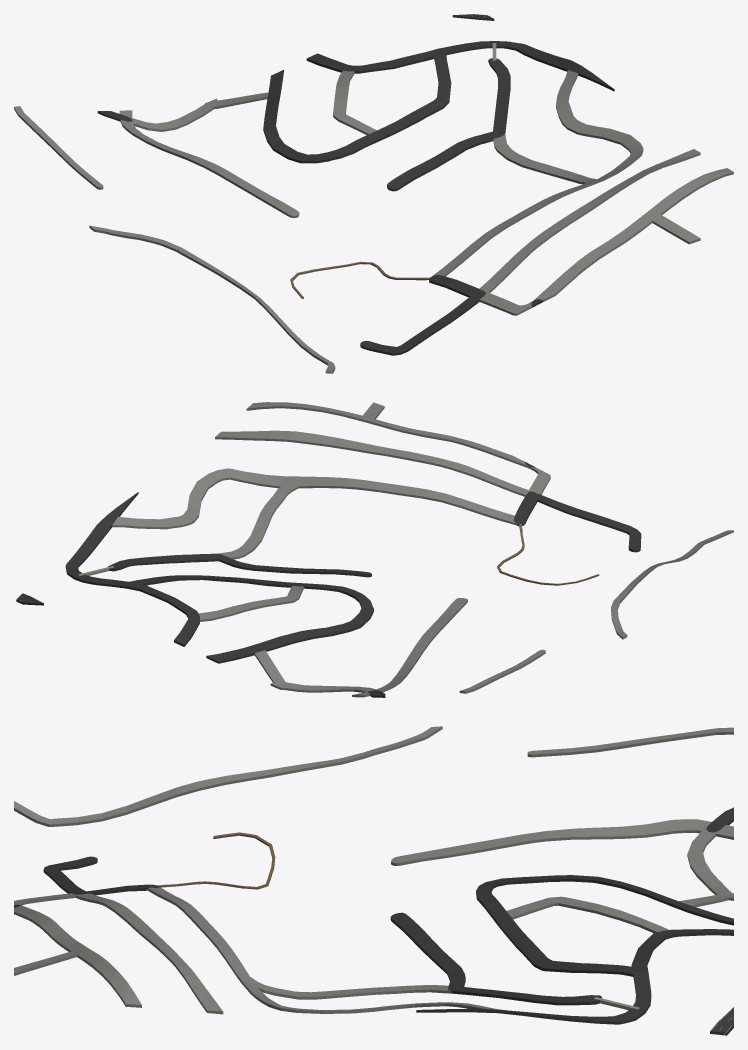
3 renders of one model, top to bottom at view 1: azimuth 30°, elevation 25°; view 2: azimuth 150°, elevation 25°; view 3: azimuth 270°, elevation 25°, orthographic. The views are drawn at different scales.
Bounding box in the file's own units: 295 × 41.11 × 292.
